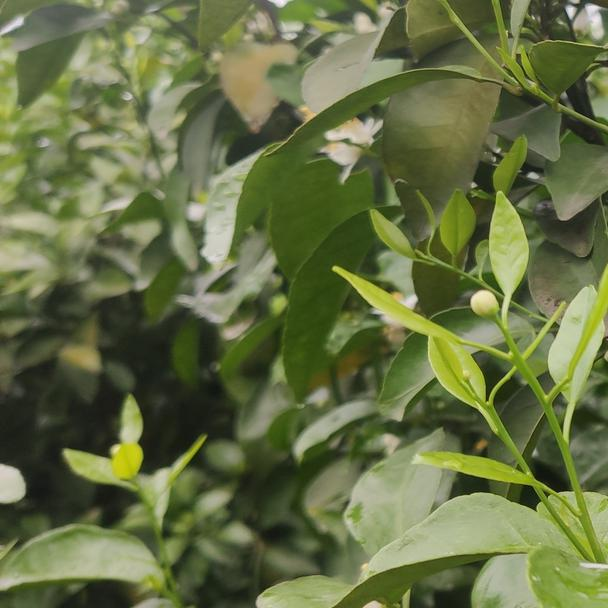shoot: (388, 265, 601, 520), (374, 183, 548, 308)
